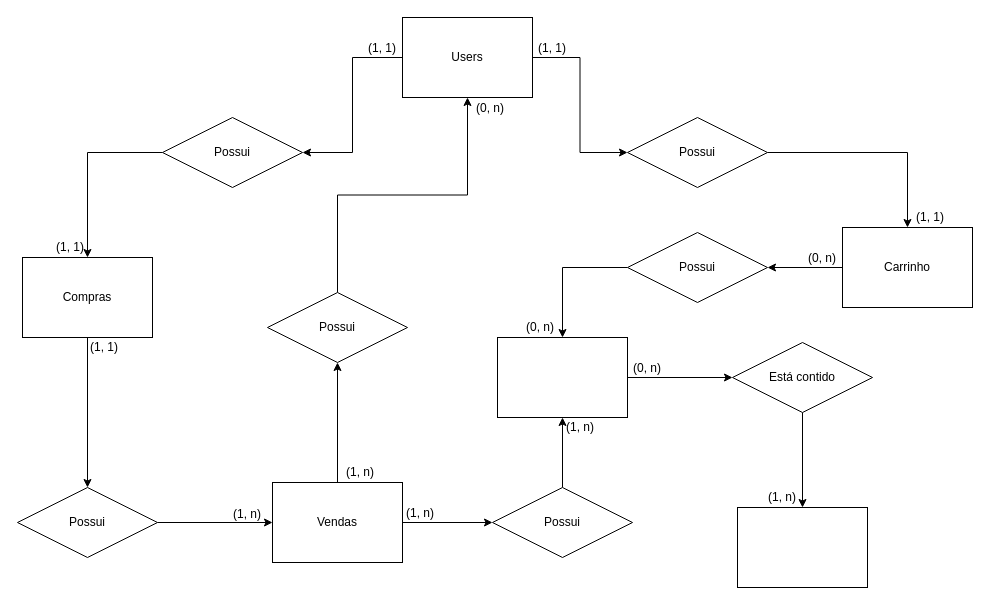
This 990x605 diagram has some shape labels left out. The shapes that lost their labels are listed below. From the top down, each one's centre as x and y in pixels, then its label:
At [562,377]: "Produtos".
At [802,547]: "Categorias".
